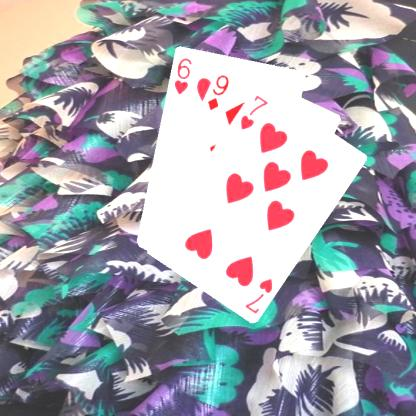6H: (171, 54, 193, 96)
7H: (237, 92, 270, 131), (242, 275, 274, 315)
9D: (204, 72, 230, 112)
